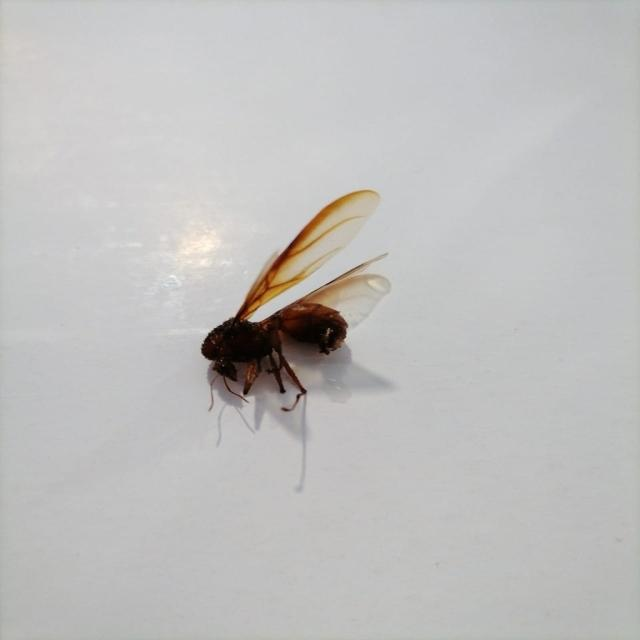Dead-Male-Alate: (200, 190, 393, 412)
